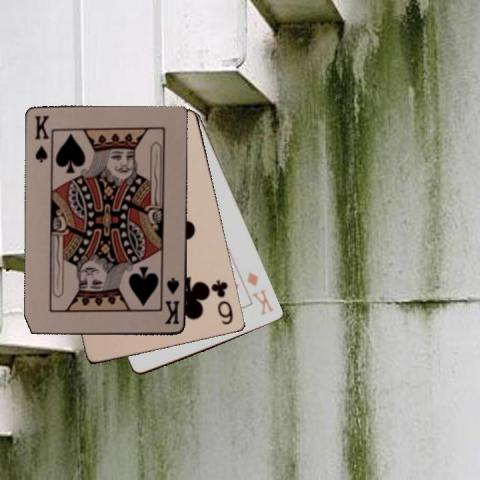6c: (209, 276, 235, 327)
Kd: (244, 269, 275, 317)
Ks: (32, 112, 51, 164), (162, 275, 181, 326)
